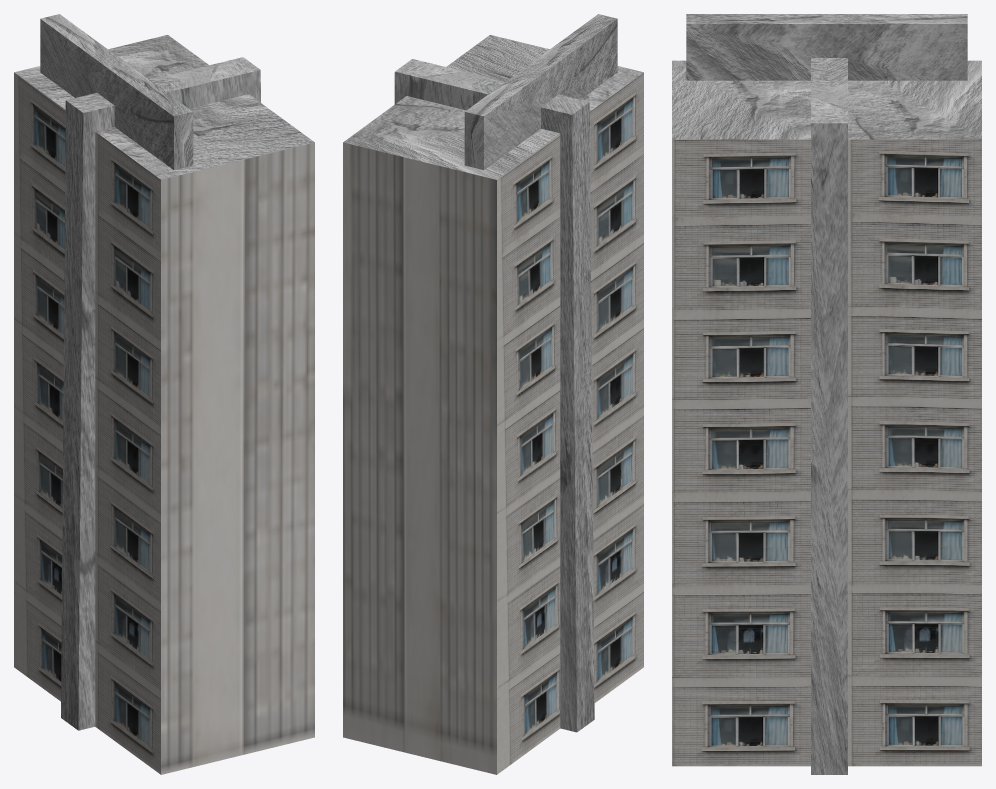
The model's file is bulid2.fbx.
The picture shows the model from 3 angles, left to right: view 1: azimuth 30°, elevation 25°; view 2: azimuth 150°, elevation 25°; view 3: azimuth 270°, elevation 25°; orthographic projection. The views are drawn at different scales.
Parts seen in each view (by area): view 1: Cube; view 2: Cube; view 3: Cube.
Boxes of the visible parts, x1=… form: Cube: x1=14, y1=14, x2=314, y2=774; Cube: x1=343, y1=14, x2=643, y2=774; Cube: x1=672, y1=14, x2=981, y2=774.
Size of the model in its own units: 3087 by 10226 by 4202.
